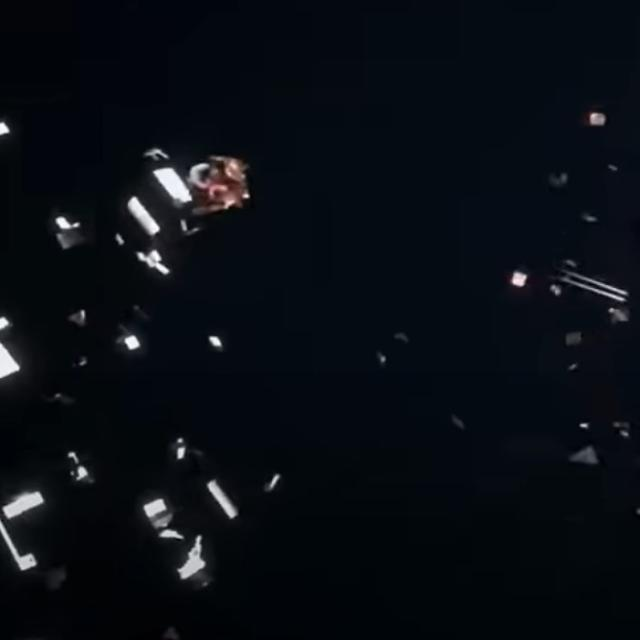large_debris: (112, 136, 256, 305), (138, 439, 275, 607), (507, 245, 640, 407), (0, 439, 99, 605), (556, 407, 634, 502), (0, 304, 44, 387), (39, 199, 91, 265), (113, 326, 141, 356)
